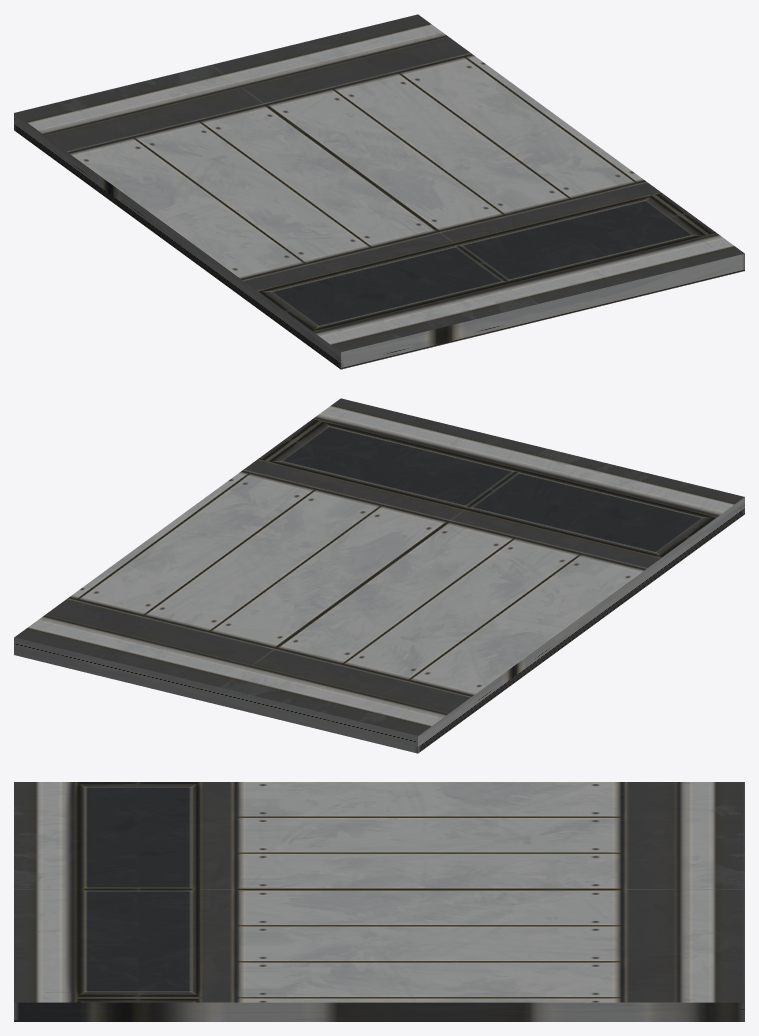
Rendered from btn-plate.glb.
3 views of the same model, one above another, from view 1: azimuth 30°, elevation 25°; view 2: azimuth 150°, elevation 25°; view 3: azimuth 270°, elevation 25° (orthographic). The views are drawn at different scales.
Parts seen in each view (by area): view 1: pCube3; view 2: pCube3; view 3: pCube3.
Part boxes in pixels (left/top/right/bottom): pCube3: left=14, top=14, right=744, bottom=369; pCube3: left=14, top=398, right=744, bottom=753; pCube3: left=14, top=782, right=744, bottom=1021.
Bounding box in the file's own units: 4.53 × 0.1865 × 6.35.
Materials: 1 (1 with a texture image).
